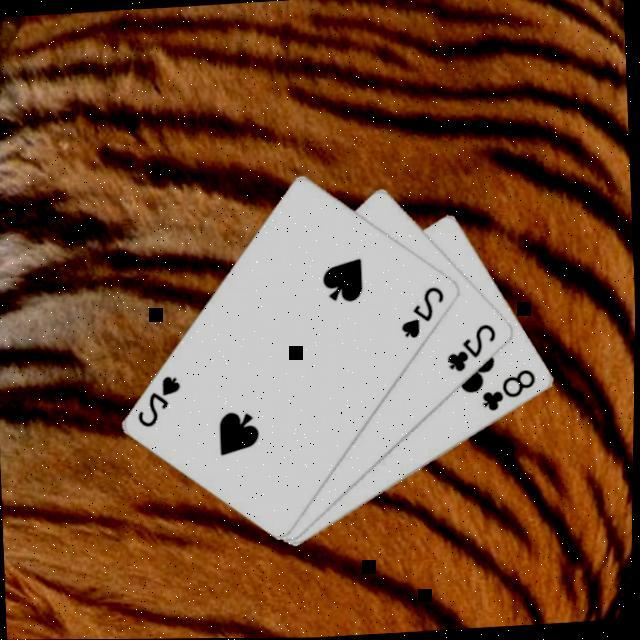2C: (446, 321, 506, 376)
2S: (135, 372, 189, 432), (399, 284, 454, 342)
8C: (481, 368, 544, 417)
